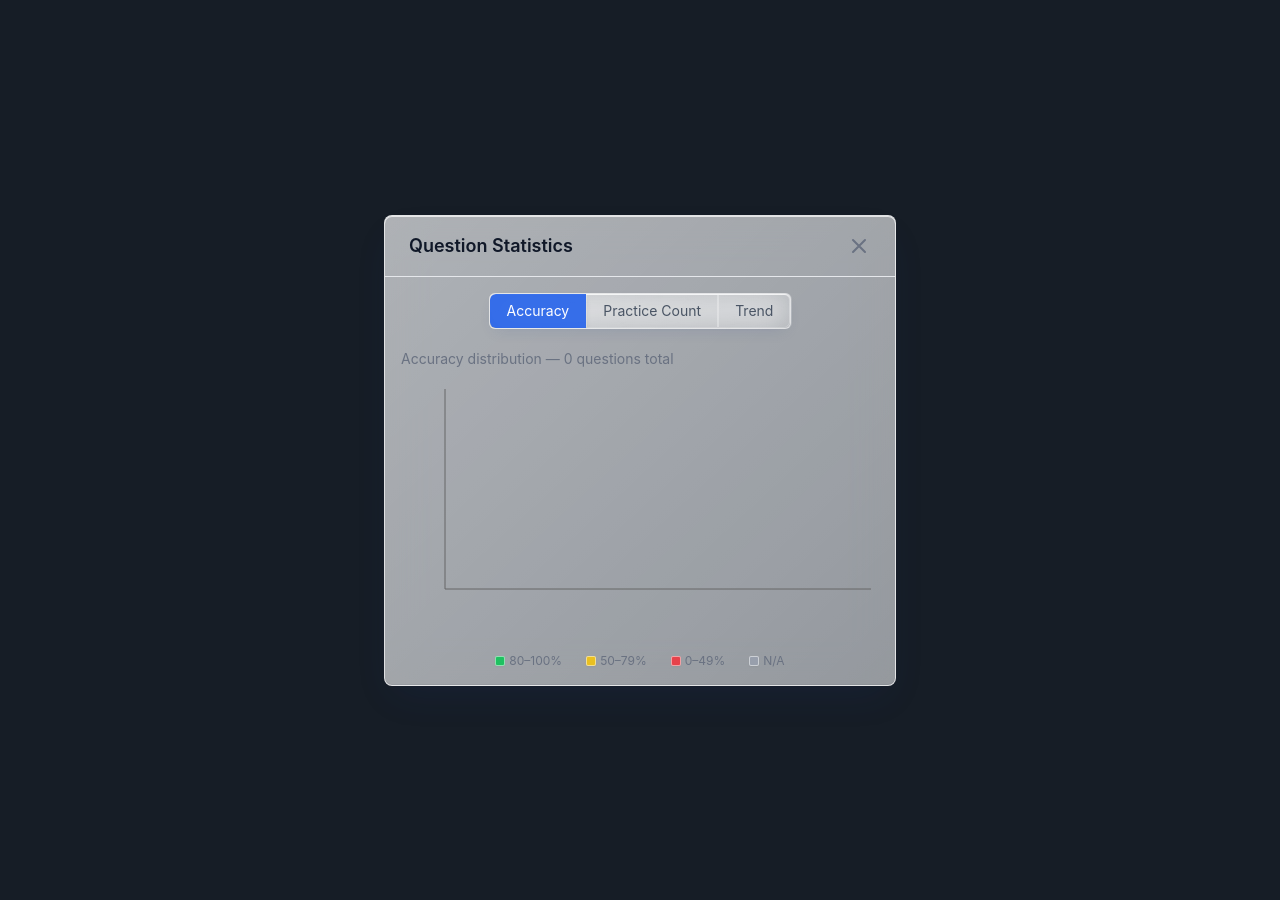
Scenario: QuestionStatsModal › shows the empty state on the trend tab when there is no answer activity
Expected: the text "Accuracy distribution — 0 questions total" is shown, [401,350,674,366]
Click the button "Trend" at (754, 310), box [718,294,790,328]
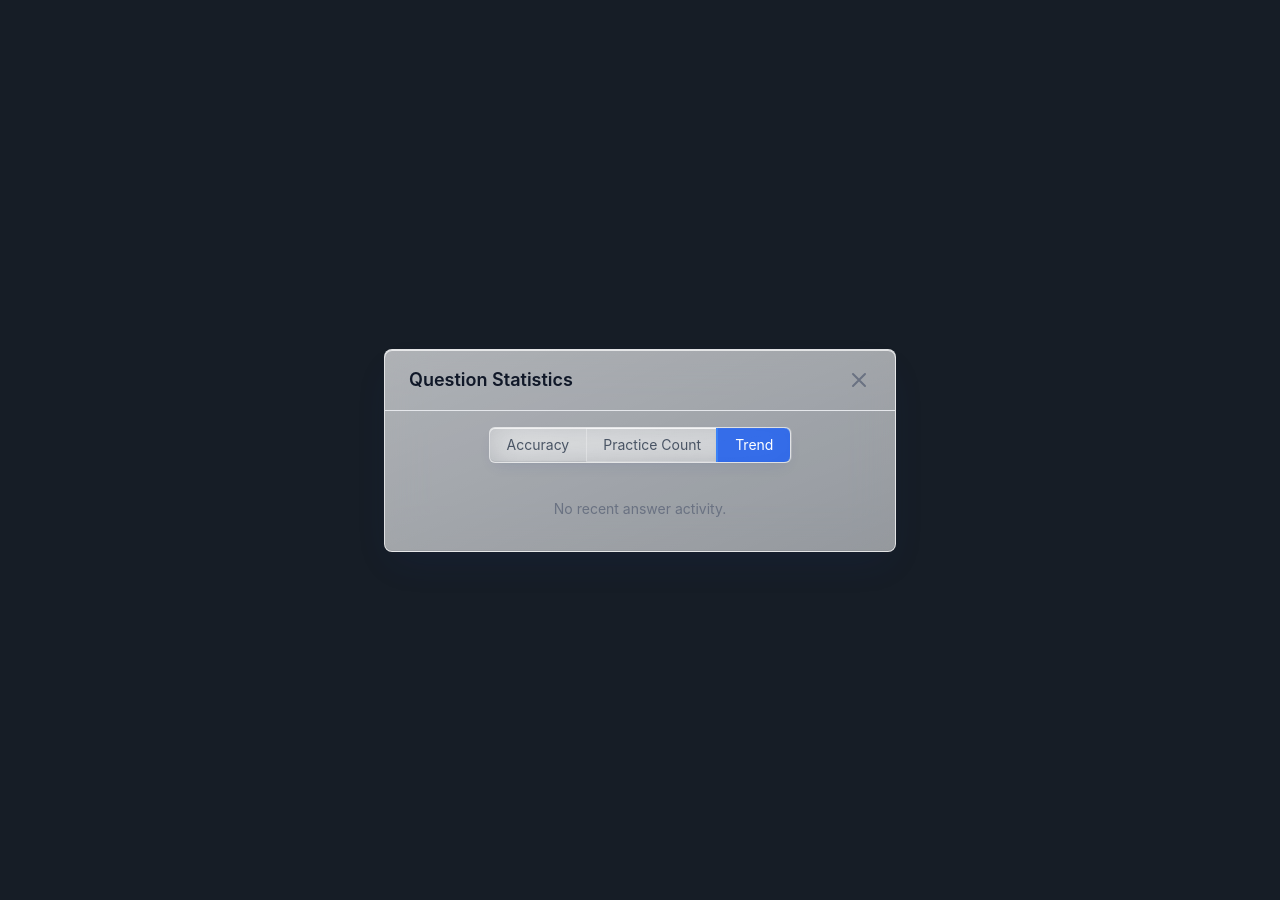
Now the text "No recent answer activity." is shown, box [554,500,726,516]
